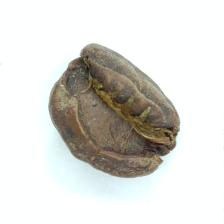NG: (64, 60, 163, 162)
